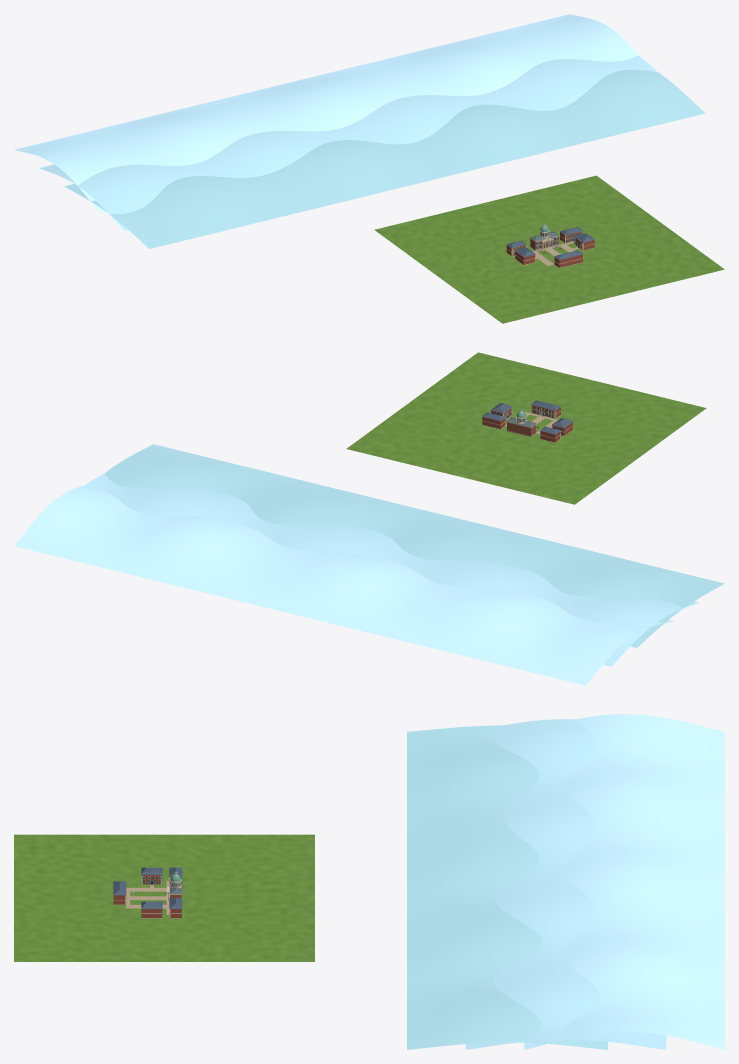
File: campus.glb
3 views of the same model, one above another, from view 1: azimuth 30°, elevation 25°; view 2: azimuth 150°, elevation 25°; view 3: azimuth 270°, elevation 25° (orthographic). The views are drawn at different scales.
Parts seen in each view (by area): view 1: rush-rhees campus architecture, Campus Terrain rochester.001; view 2: rush-rhees campus architecture, Campus Terrain rochester.001; view 3: rush-rhees campus architecture, Campus Terrain rochester.001.
Part boxes in pixels (box(x1,y1,x2,y2)): rush-rhees campus architecture: box(14, 14, 705, 268); Campus Terrain rochester.001: box(374, 175, 724, 323); rush-rhees campus architecture: box(14, 400, 724, 685); Campus Terrain rochester.001: box(346, 352, 706, 504); rush-rhees campus architecture: box(113, 714, 724, 1049); Campus Terrain rochester.001: box(14, 834, 314, 961).
Size of the model in its own units: 450 by 20.42 by 425.
